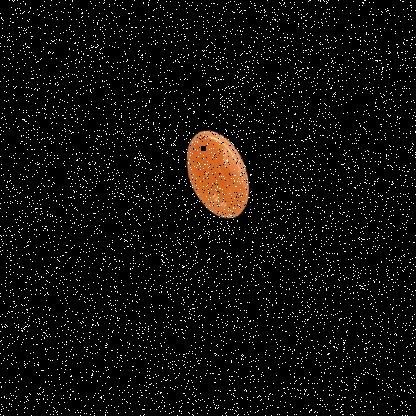welood: (140, 100, 280, 254)
